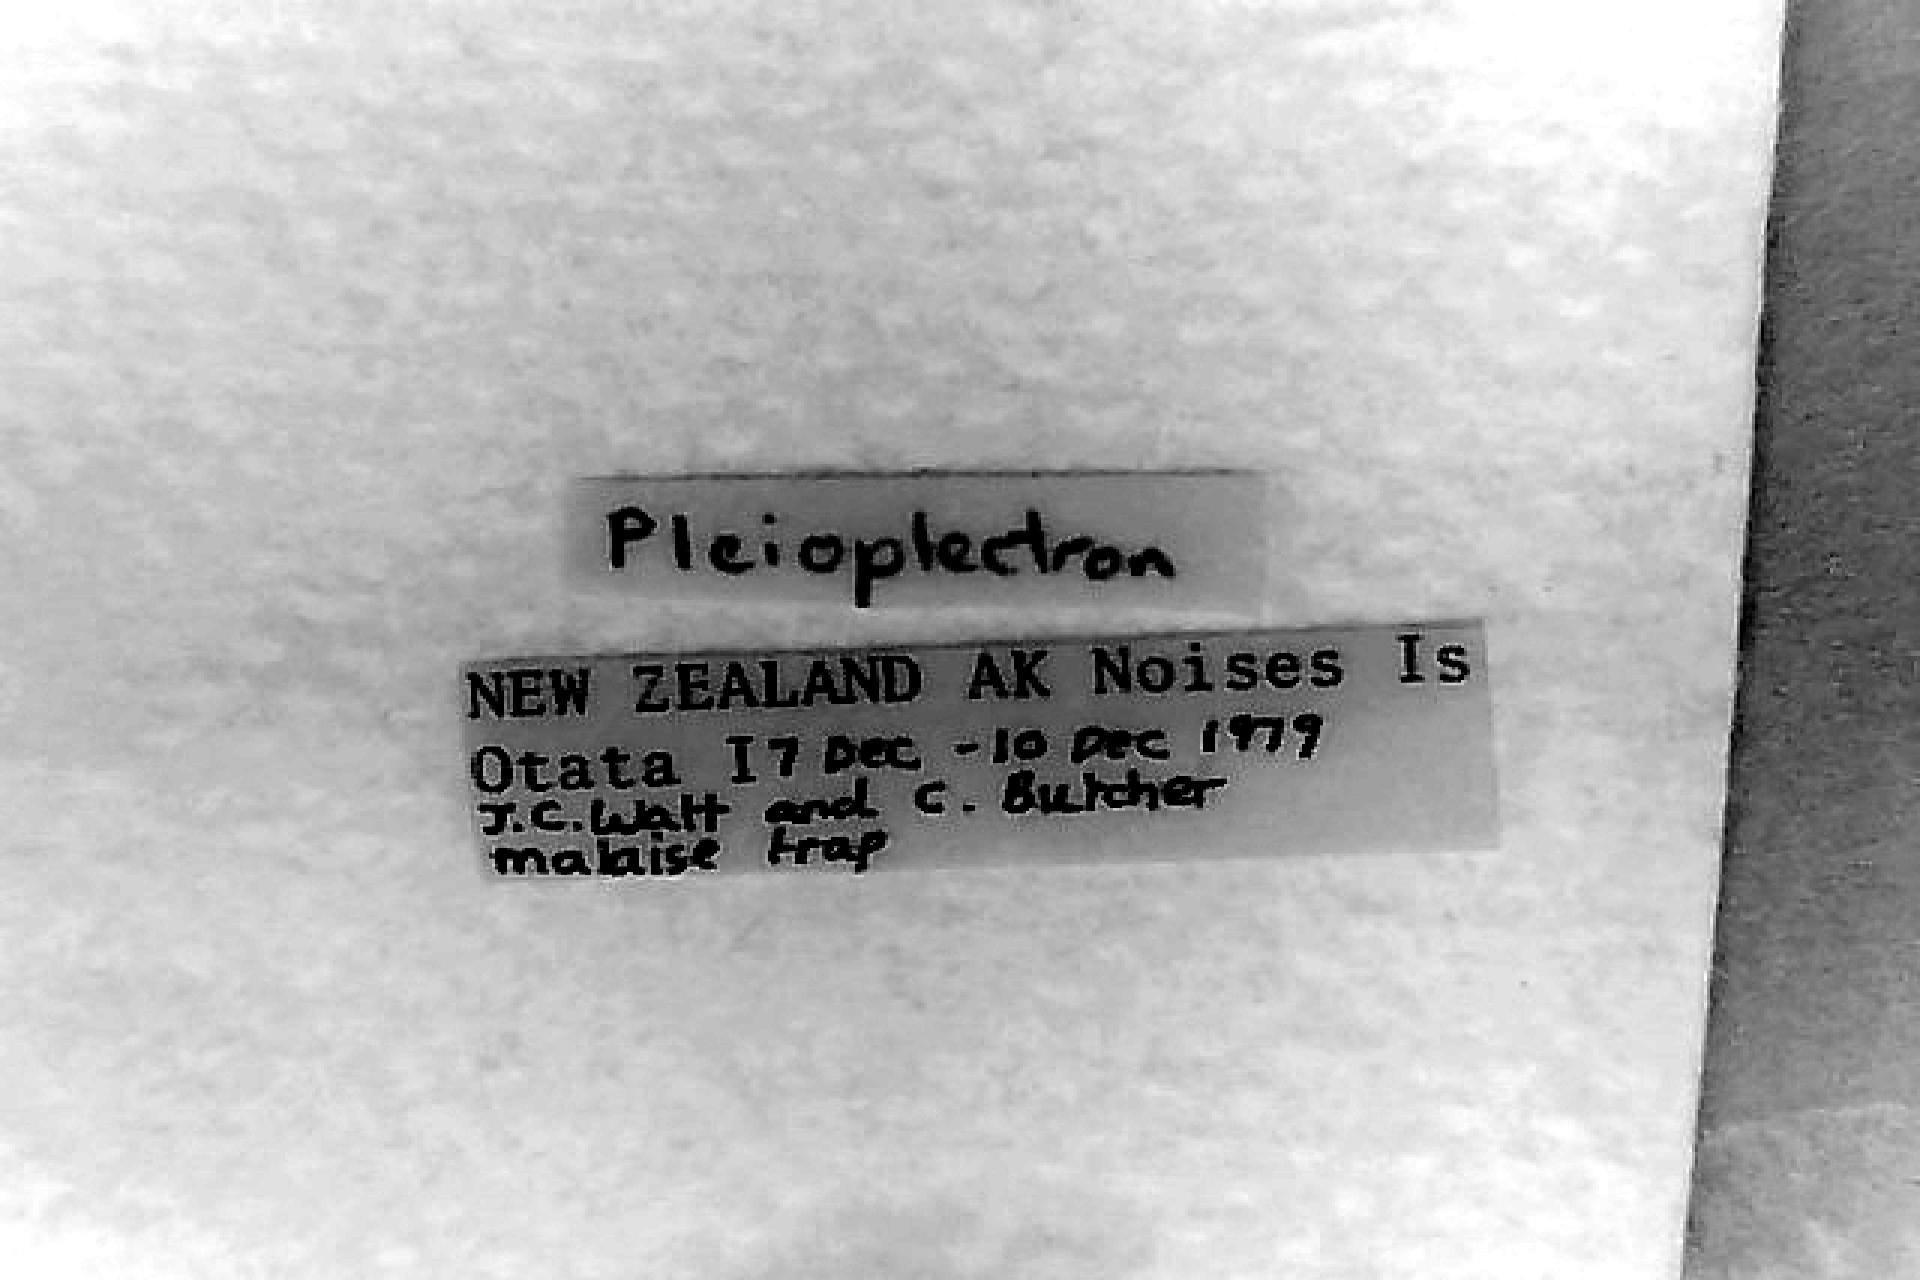hand_label: (574, 473, 1264, 608)
mixed_label: (467, 623, 1496, 875)
